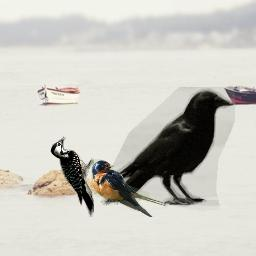Crow: (101, 87, 235, 210)
Swallow: (91, 159, 167, 217)
Woodpecker: (50, 136, 94, 217)
